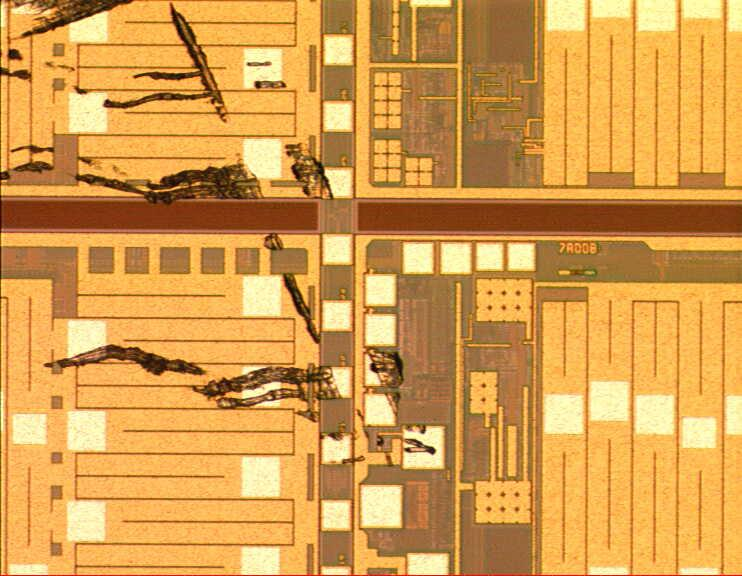SCRATCH: (1, 1, 446, 475)
